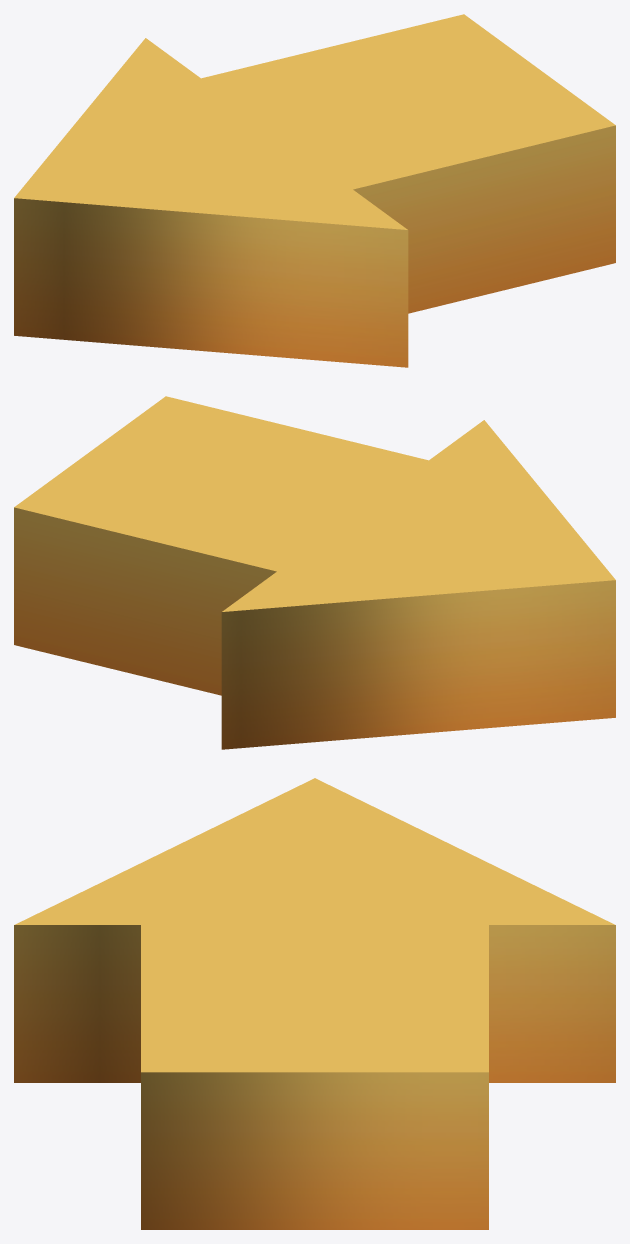
The model's file is kenney-conveyor-arrow.glb.
The picture shows the model from 3 angles, top to bottom: view 1: azimuth 30°, elevation 25°; view 2: azimuth 150°, elevation 25°; view 3: azimuth 270°, elevation 25°; orthographic projection. The views are drawn at different scales.
Parts seen in each view (by area): view 1: arrow; view 2: arrow; view 3: arrow.
Part boxes in pixels (left/top/right/bottom): arrow: left=14, top=14, right=615, bottom=367; arrow: left=14, top=396, right=615, bottom=749; arrow: left=14, top=778, right=615, bottom=1229.
Size of the model in its own units: 0.8 by 0.2 by 0.692.
Materials: 1 (1 with a texture image).
